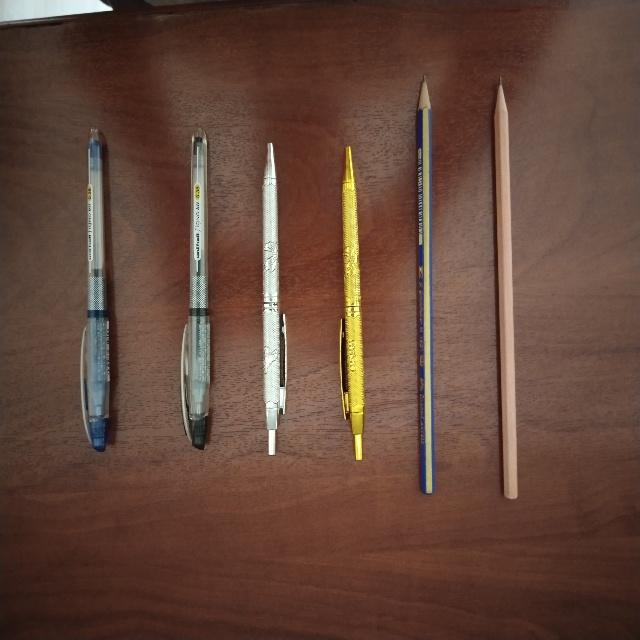pen: (181, 129, 210, 449), (81, 128, 109, 451)
pencil: (494, 81, 517, 498), (417, 78, 434, 493)
signature pen: (340, 147, 364, 459), (263, 143, 286, 454)
